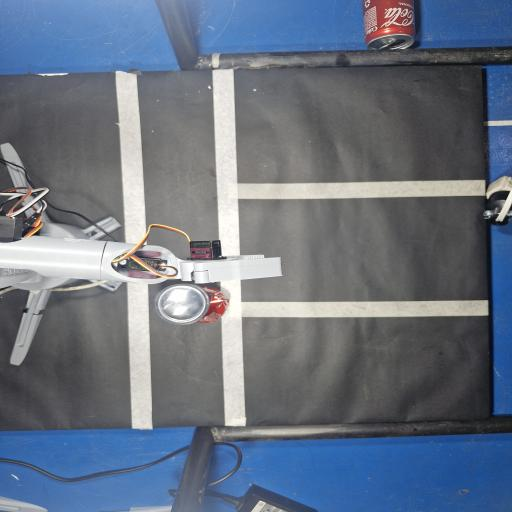lata_defectuoso: (154, 283, 229, 326)
